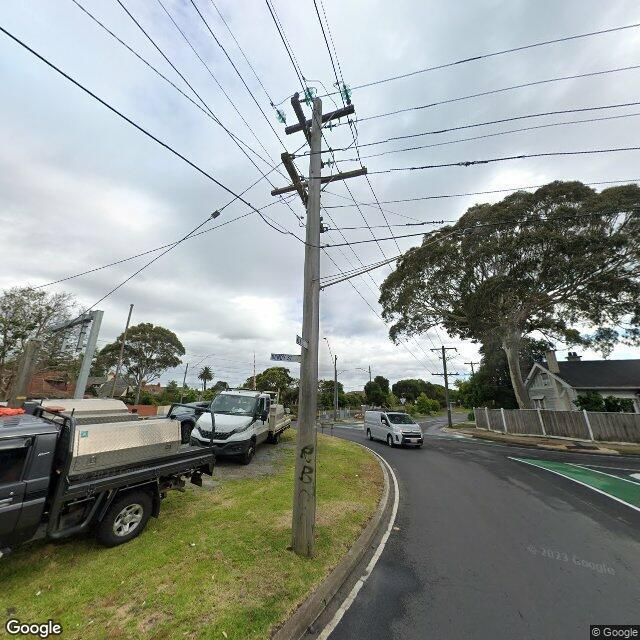HV-transmission: (270, 76, 358, 136), (430, 346, 458, 352)
crossarm: (271, 165, 369, 196), (285, 104, 355, 134), (282, 151, 310, 208), (290, 97, 312, 145), (431, 371, 460, 378), (433, 347, 455, 351), (438, 356, 455, 359)
streetlight: (188, 353, 216, 372), (323, 338, 335, 367), (337, 370, 349, 377), (355, 368, 368, 373)
timber-pole: (291, 97, 324, 557), (110, 304, 134, 398), (442, 346, 452, 428), (334, 354, 338, 422), (183, 362, 189, 387), (253, 353, 256, 390), (369, 365, 372, 382), (471, 362, 474, 377)
